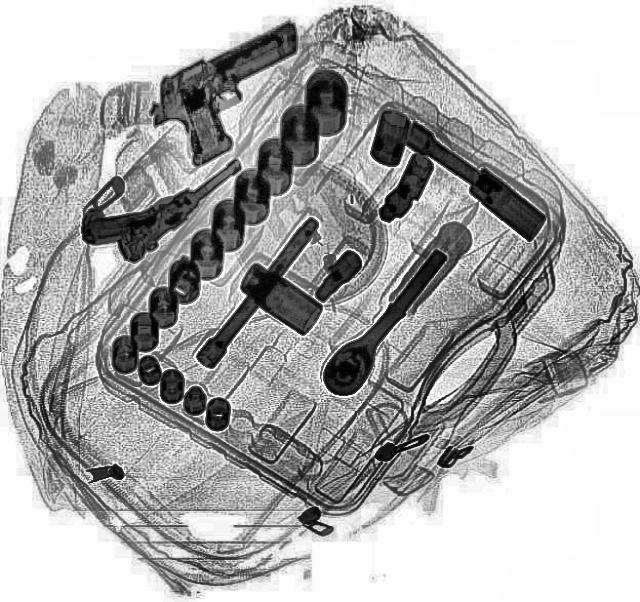Gun: (130, 16, 342, 175), (73, 124, 247, 274)
